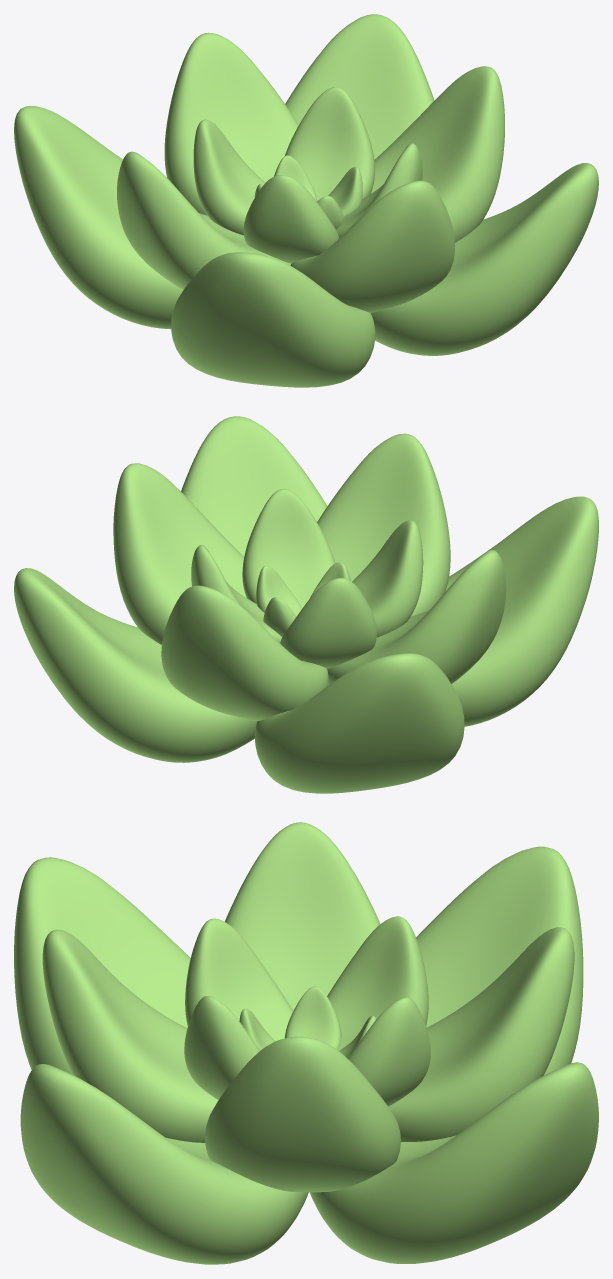
File: echeveria.glb
3 views of the same model, one above another, from view 1: azimuth 30°, elevation 25°; view 2: azimuth 150°, elevation 25°; view 3: azimuth 270°, elevation 25° (orthographic). The views are drawn at different scales.
Visible parts, largest first — view 1: plant; view 2: plant; view 3: plant.
Part boxes in pixels (box(x1,y1,x2,y2)): plant: box(14, 14, 598, 387); plant: box(14, 416, 598, 793); plant: box(14, 822, 598, 1264).
Size of the model in its own units: 11.84 by 5.94 by 11.94.
